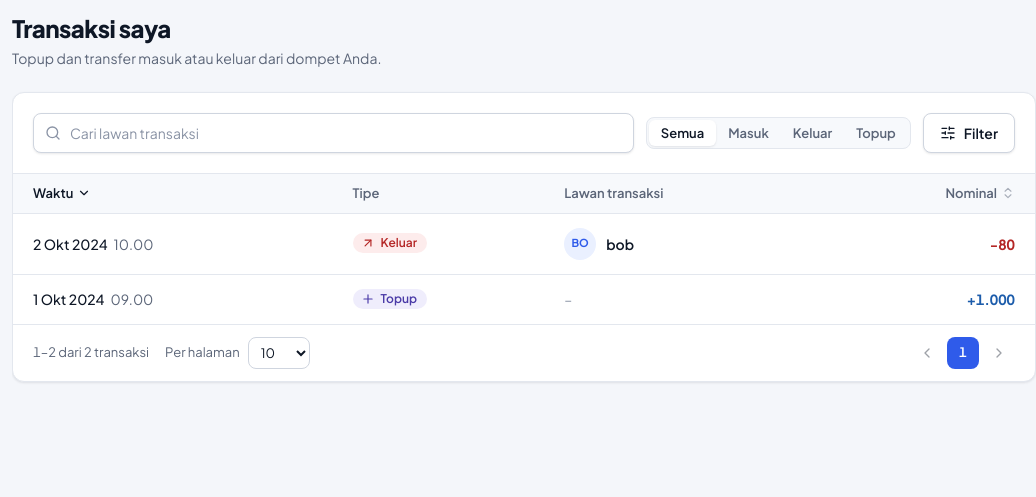
Scenario: MyTransactionsPage › keeps the date and amount filters behind the Filter button
Expected: the field labelled "Dari tanggal" is not shown
Step 1. Click the button "Filter" → {"x": 969, "y": 133}, box [923, 113, 1015, 153]
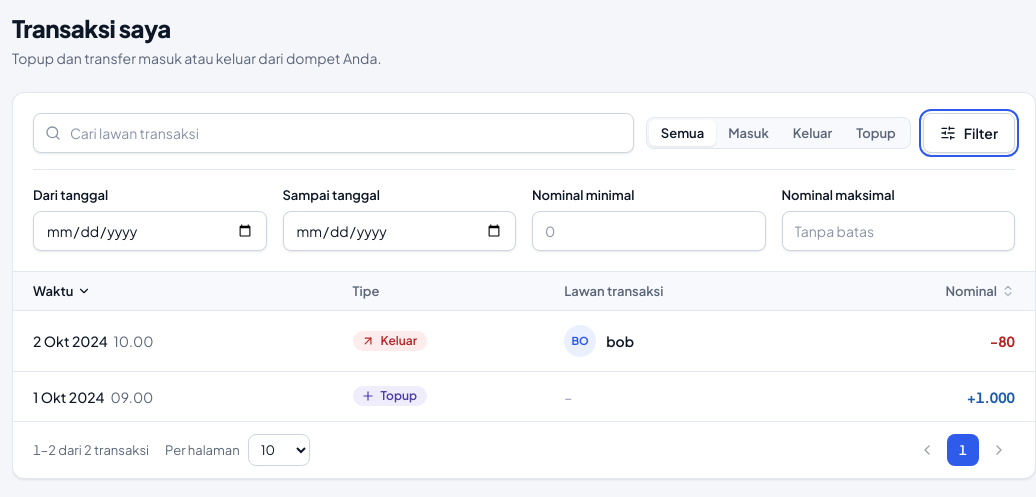
Expected: the date field labelled "Dari tanggal" is shown, [33, 211, 266, 251]
